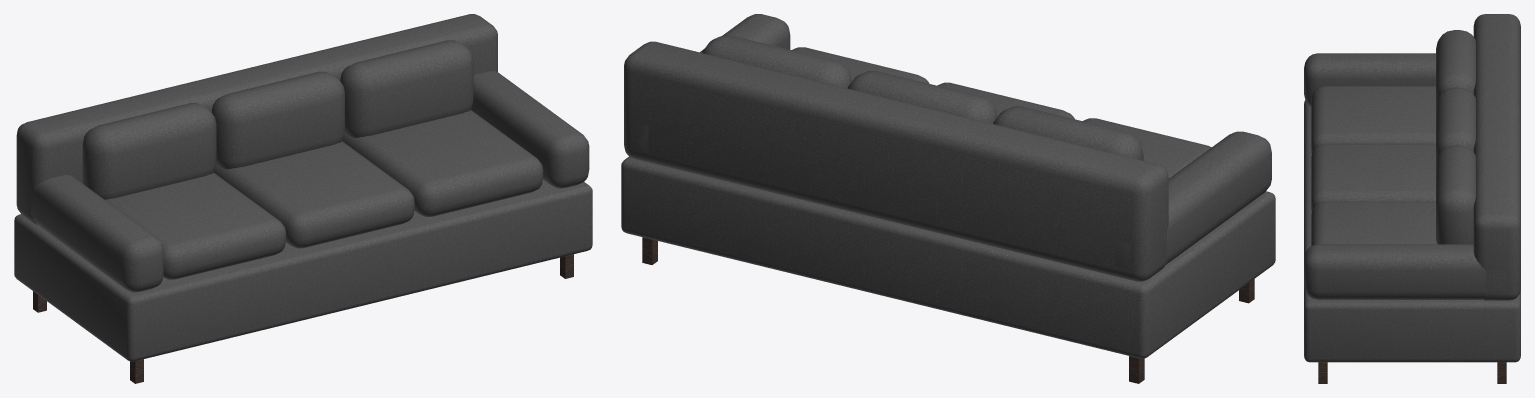
Rendered from sofa_modern.glb.
The picture shows the model from 3 angles, left to right: view 1: azimuth 30°, elevation 25°; view 2: azimuth 150°, elevation 25°; view 3: azimuth 270°, elevation 25°; orthographic projection. The views are drawn at different scales.
Parts seen in each view (by area): view 1: sofa_modern; view 2: sofa_modern; view 3: sofa_modern.
Part boxes in pixels (<box>): sofa_modern: <box>14,14,592,383</box>; sofa_modern: <box>621,14,1275,383</box>; sofa_modern: <box>1304,14,1520,383</box>.
Size of the model in its own units: 2.1 by 0.82 by 0.92.
2 materials, 2 textured.
